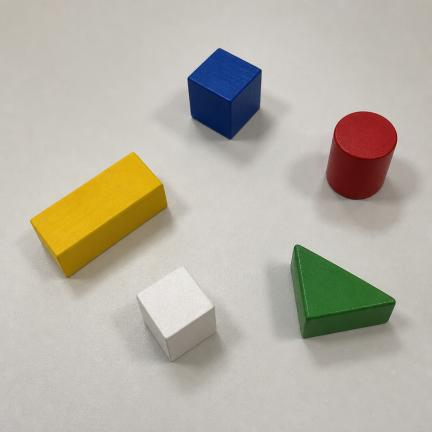BuildingBlocks: (31, 153, 167, 276), (291, 246, 395, 337), (137, 267, 216, 361), (188, 49, 261, 138), (327, 112, 396, 198)
